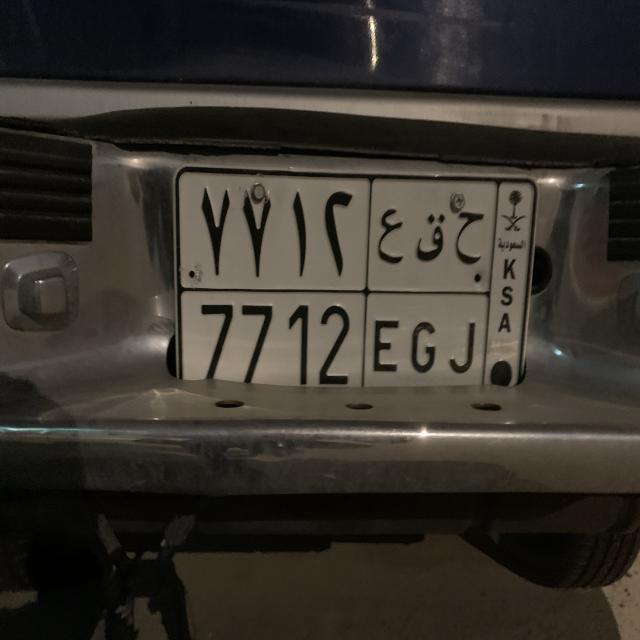license_plate: (171, 162, 537, 398)
